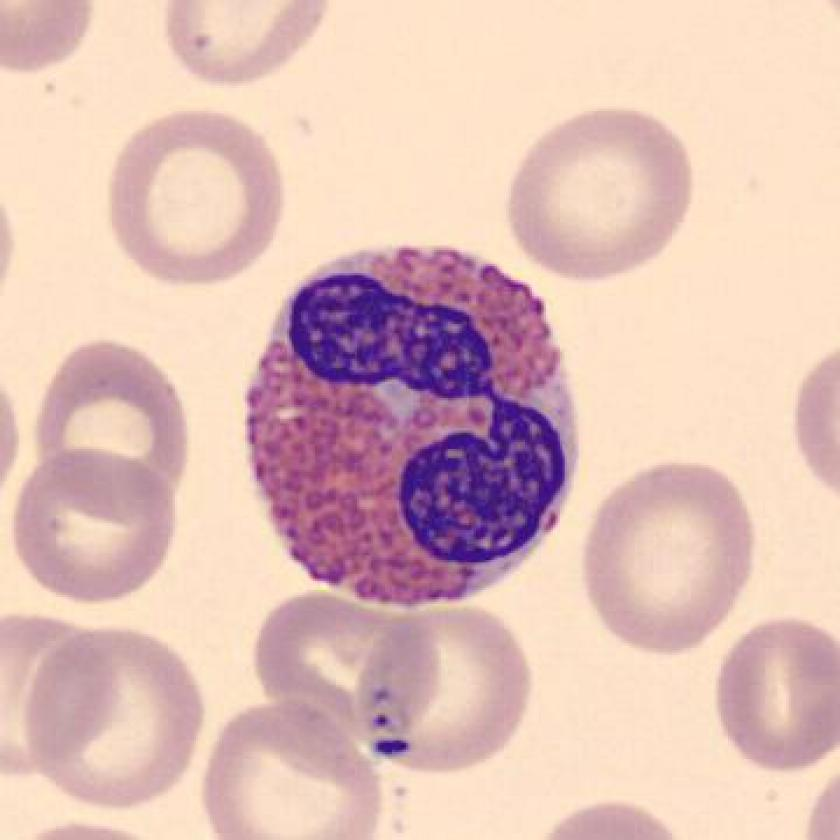eosinophil: (232, 225, 603, 619)
